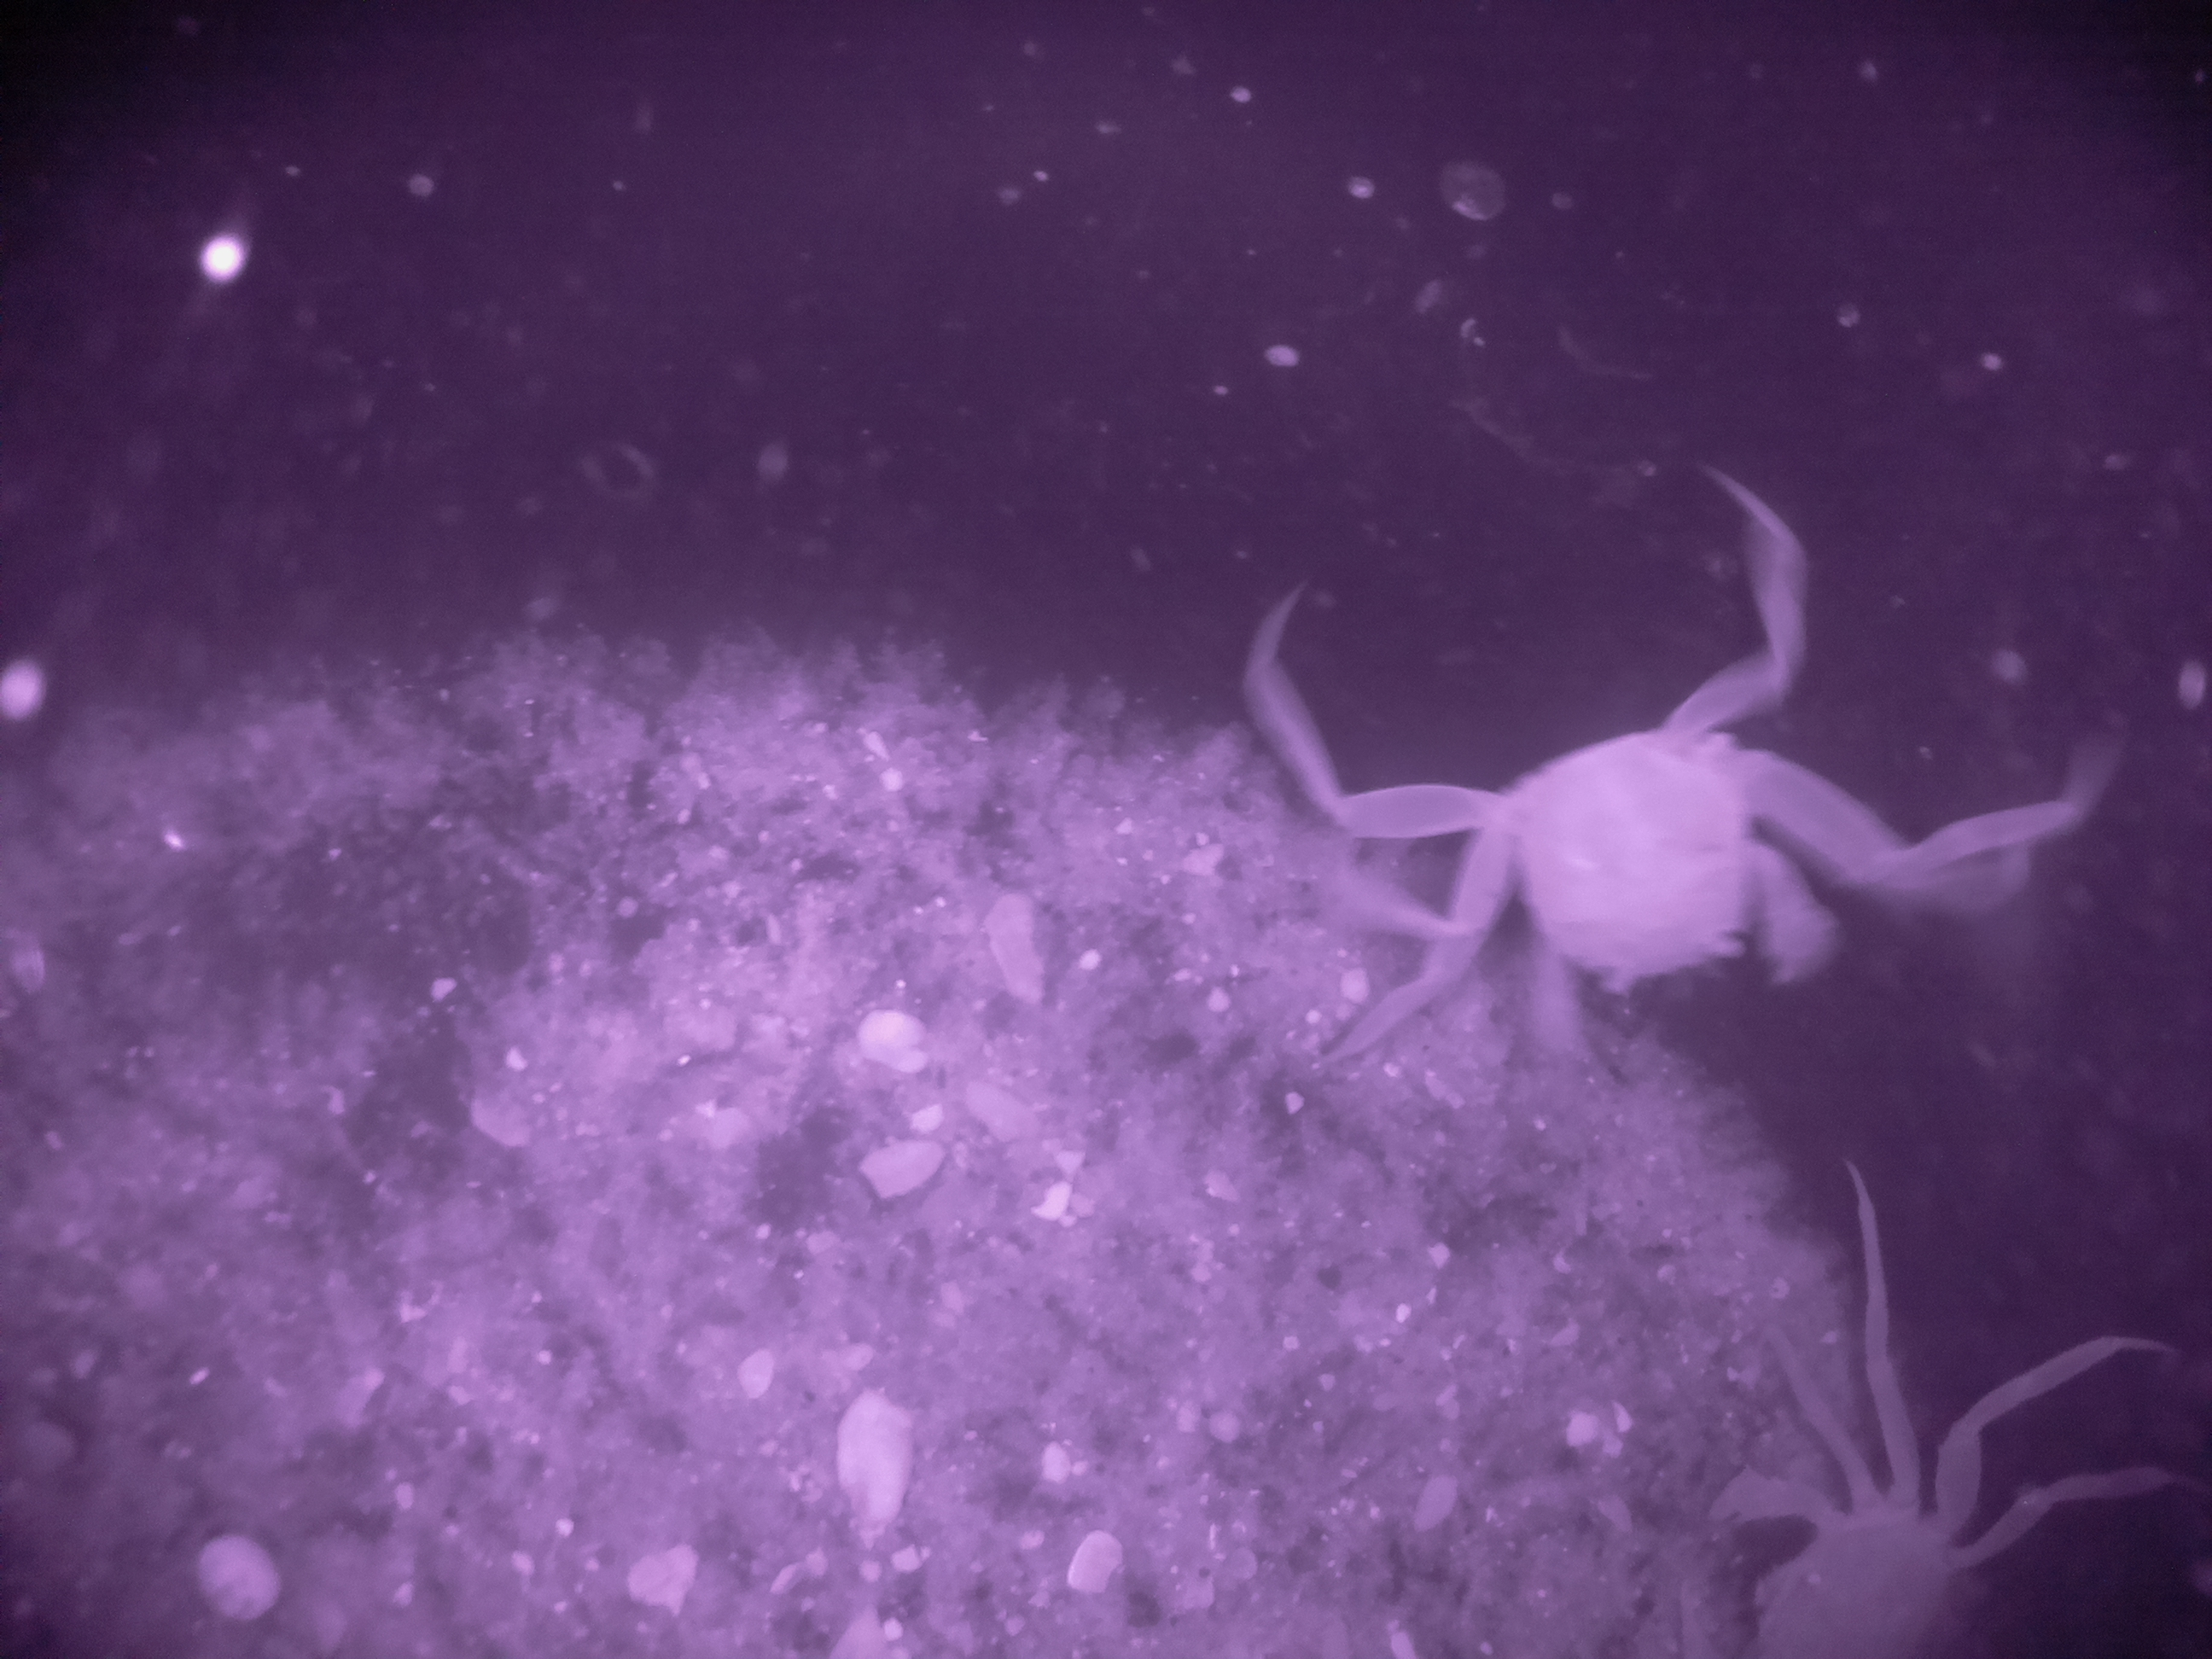Crab: (1352, 648, 1916, 1107)
